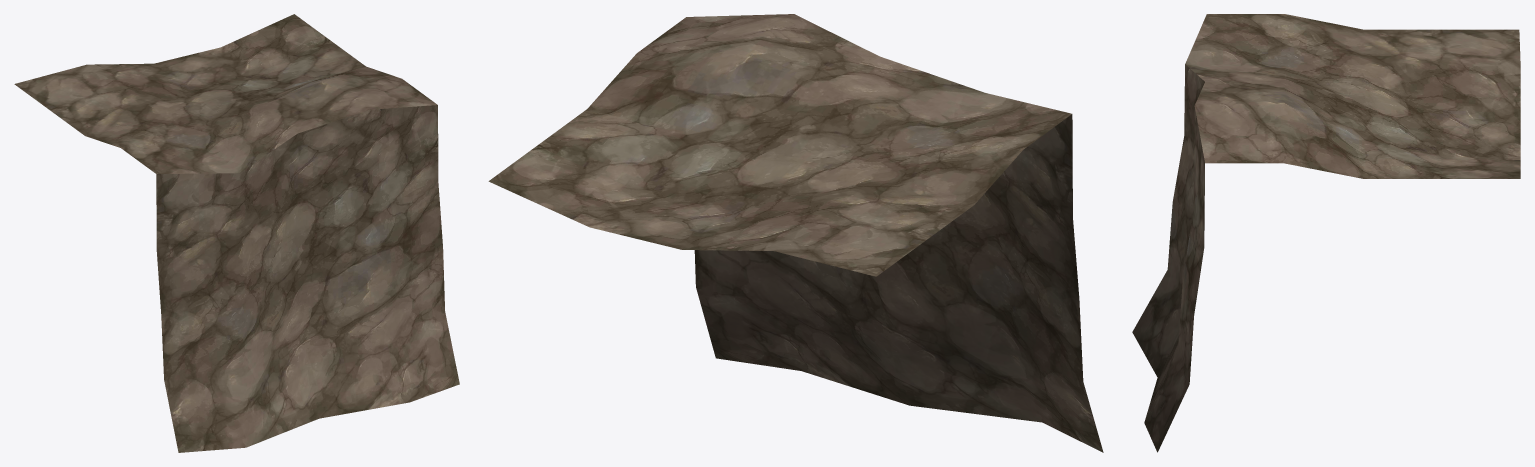
The model's file is wall.FBX.
The picture shows the model from 3 angles, left to right: view 1: azimuth 30°, elevation 25°; view 2: azimuth 150°, elevation 25°; view 3: azimuth 270°, elevation 25°; orthographic projection. The views are drawn at different scales.
Visible parts, largest first — view 1: Box001; view 2: Box001; view 3: Box001.
Boxes of the visible parts, x1,y1,x2,y2 form: Box001: [14, 14, 459, 452]; Box001: [488, 14, 1103, 452]; Box001: [1132, 14, 1520, 452].
Bounding box in the file's own units: 118 × 112 × 128.
